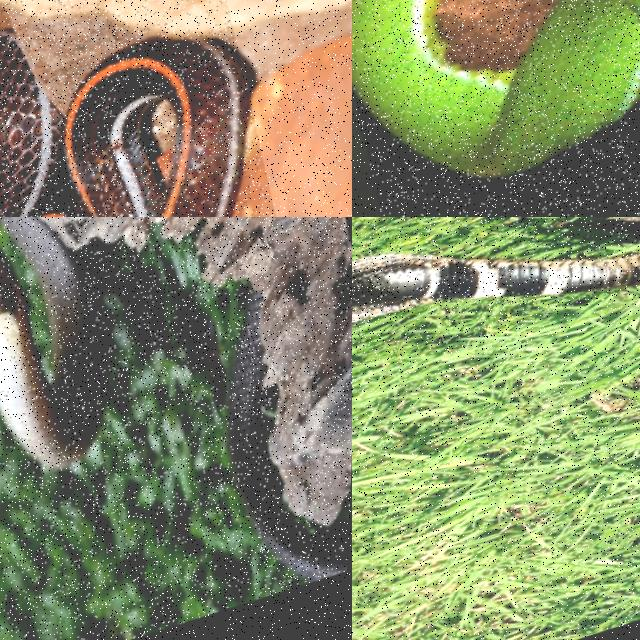Calliophis intestinalis: (0, 32, 248, 216)
Naja kaouthia: (0, 217, 105, 467)
Naja siamensis: (352, 252, 639, 322)
Trimeresurus macrops: (352, 0, 639, 176)
snake: (352, 0, 639, 176), (0, 32, 248, 216), (0, 217, 105, 467), (352, 252, 639, 322)
